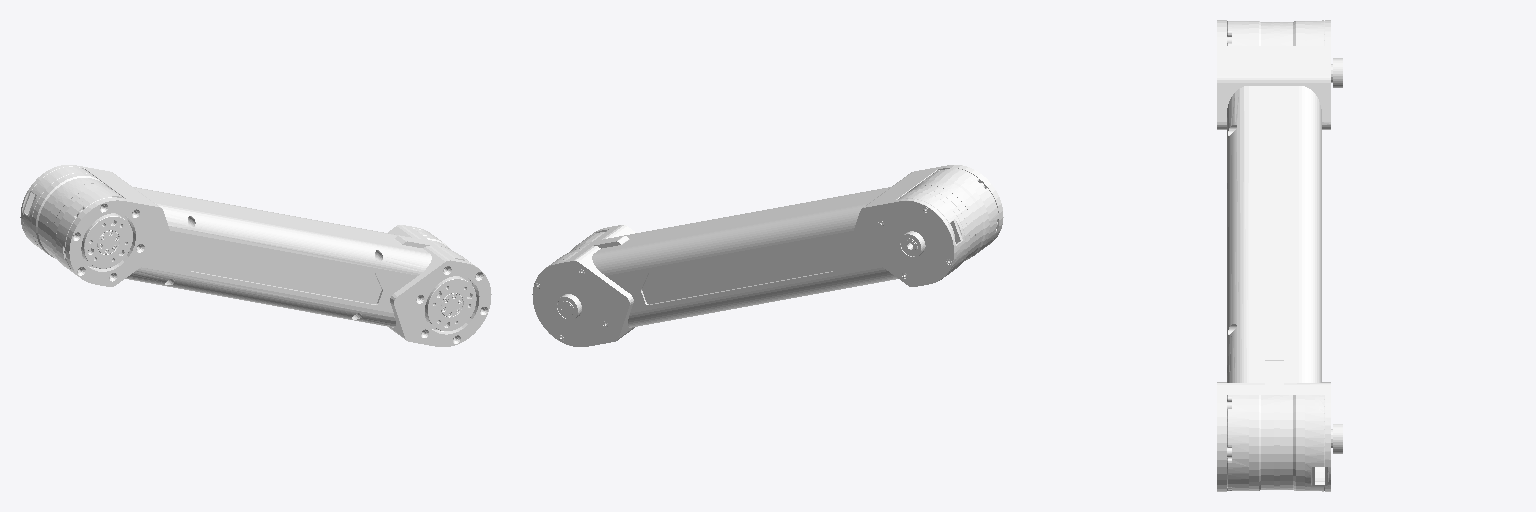
The robot description file, URDF, robot "airbot_play_v2_1":
<?xml version="1.0" encoding="utf-8" ?>
<!-- This URDF was automatically created by SolidWorks to URDF Exporter! Originally created by [author] ([email redacted]) 
     Commit Version: 1.6.0-4-g7f85cfe  Build Version: 1.6.7995.38578
     For more information, please see http://wiki.ros.org/sw_urdf_exporter -->
<robot name="airbot_play_v2_1">
    <link name="base_link">
        <inertial>
            <origin xyz="-0.0106301474610337 -0.000199553410443472 0.0371964687357703" rpy="0 0 0" />
            <mass value="0.775915004746176" />
            <inertia ixx="0.00069985128784508" ixy="5.34514790296098E-06" ixz="1.76381070205361E-06" iyy="0.000855522012998859" iyz="3.90737393820019E-06" izz="0.00105821881122613" />
        </inertial>
        <visual>
            <origin xyz="0 0 0" rpy="0 0 0" />
            <geometry>
                <mesh filename="package://airbot_play_v2_1/meshes/base_link.STL" />
            </geometry>
            <material name="">
                <color rgba="0.898039215686275 0.917647058823529 0.929411764705882 1" />
            </material>
        </visual>
        <collision>
            <origin xyz="0 0 0" rpy="0 0 0" />
            <geometry>
                <mesh filename="package://airbot_play_v2_1/meshes/base_link.STL" />
            </geometry>
        </collision>
    </link>
    <link name="link1">
        <inertial>
            <origin xyz="7.26461828952265E-05 -0.00180358882481513 -0.0040245749975828" rpy="0 0 0" />
            <mass value="0.557107161361679" />
            <inertia ixx="0.000301325021461403" ixy="-2.99503777737959E-07" ixz="4.81746133283817E-07" iyy="0.000250217605970197" iyz="1.4954777872345E-05" izz="0.000325679218873344" />
        </inertial>
        <visual>
            <origin xyz="0 0 0" rpy="0 0 0" />
            <geometry>
                <mesh filename="package://airbot_play_v2_1/meshes/link1.STL" />
            </geometry>
            <material name="">
                <color rgba="0.898039215686275 0.917647058823529 0.929411764705882 1" />
            </material>
        </visual>
        <collision>
            <origin xyz="0 0 0" rpy="0 0 0" />
            <geometry>
                <mesh filename="package://airbot_play_v2_1/meshes/link1.STL" />
            </geometry>
        </collision>
    </link>
    <joint name="joint1" type="revolute">
        <origin xyz="0 0 0.1127" rpy="0 0 0" />
        <parent link="base_link" />
        <child link="link1" />
        <axis xyz="0 0 1" />
        <limit lower="-3.14" upper="2.09" effort="0" velocity="0" />
    </joint>
    <link name="link2">
        <inertial>
            <origin xyz="0.224925446535114 0.00478588811228768 0.00802387316222566" rpy="0 0 0" />
            <mass value="0.646248710360021" />
            <inertia ixx="0.000351883145335031" ixy="-7.83178613766434E-05" ixz="8.22450930417901E-05" iyy="0.00195260270078009" iyz="1.74744972718265E-05" izz="0.00195686017210086" />
        </inertial>
        <visual>
            <origin xyz="0 0 0" rpy="0 0 0" />
            <geometry>
                <mesh filename="package://airbot_play_v2_1/meshes/link2.STL" />
            </geometry>
            <material name="">
                <color rgba="1 1 1 1" />
            </material>
        </visual>
        <collision>
            <origin xyz="0 0 0" rpy="0 0 0" />
            <geometry>
                <mesh filename="package://airbot_play_v2_1/meshes/link2.STL" />
            </geometry>
        </collision>
    </link>
    <joint name="joint2" type="revolute">
        <origin xyz="0 0 0" rpy="-1.5708 -0.38678 3.1416" />
        <parent link="link1" />
        <child link="link2" />
        <axis xyz="0 0 1" />
        <limit lower="-2.96" upper="0.17" effort="0" velocity="0" />
    </joint>
    <link name="link3">
        <inertial>
            <origin xyz="0.200547330964236 -3.3627325386365E-05 0.00194896157935489" rpy="0 0 0" />
            <mass value="0.445563107671385" />
            <inertia ixx="0.000167369776419882" ixy="-4.81065732240346E-07" ixz="1.77949638222263E-06" iyy="0.000672322925427126" iyz="-9.83781152049909E-08" izz="0.000686599433660339" />
        </inertial>
        <visual>
            <origin xyz="0 0 0" rpy="0 0 0" />
            <geometry>
                <mesh filename="package://airbot_play_v2_1/meshes/link3.STL" />
            </geometry>
            <material name="">
                <color rgba="1 1 1 1" />
            </material>
        </visual>
        <collision>
            <origin xyz="0 0 0" rpy="0 0 0" />
            <geometry>
                <mesh filename="package://airbot_play_v2_1/meshes/link3.STL" />
            </geometry>
        </collision>
    </link>
    <joint name="joint3" type="revolute">
        <origin xyz="0.27009 1.3718E-05 0" rpy="0 0 -2.7548" />
        <parent link="link2" />
        <child link="link3" />
        <axis xyz="0 0 1" />
        <limit lower="-0.087" upper="3.14" effort="0" velocity="0" />
    </joint>
    <link name="link4">
        <inertial>
            <origin xyz="0.00150295453973709 5.83997713102176E-07 -0.00232966914421601" rpy="0 0 0" />
            <mass value="0.345884858675684" />
            <inertia ixx="0.000133803031406746" ixy="-7.29531827066913E-09" ixz="-2.46487819854503E-07" iyy="0.000121204730748505" iyz="9.89248496280094E-10" izz="0.000125010151603045" />
        </inertial>
        <visual>
            <origin xyz="0 0 0" rpy="0 0 0" />
            <geometry>
                <mesh filename="package://airbot_play_v2_1/meshes/link4.STL" />
            </geometry>
            <material name="">
                <color rgba="0.898039215686275 0.917647058823529 0.929411764705882 1" />
            </material>
        </visual>
        <collision>
            <origin xyz="0 0 0" rpy="0 0 0" />
            <geometry>
                <mesh filename="package://airbot_play_v2_1/meshes/link4.STL" />
            </geometry>
        </collision>
    </link>
    <joint name="joint4" type="revolute">
        <origin xyz="0.30854 0.0027492 0.00019049" rpy="-1.5708 0 -1.5708" />
        <parent link="link3" />
        <child link="link4" />
        <axis xyz="0 0 1" />
        <limit lower="-2.96" upper="2.96" effort="0" velocity="0" />
    </joint>
    <link name="link5">
        <inertial>
            <origin xyz="0.0506197654888128 6.95119841378662E-06 -0.000909972285324662" rpy="0 0 0" />
            <mass value="0.18663635710924" />
            <inertia ixx="0.000101780959048711" ixy="-1.53592986463846E-08" ixz="5.24140905704508E-08" iyy="8.2787133363287E-05" iyz="-1.71995563550468E-08" izz="8.59347793251101E-05" />
        </inertial>
        <visual>
            <origin xyz="0 0 0" rpy="0 0 0" />
            <geometry>
                <mesh filename="package://airbot_play_v2_1/meshes/link5.STL" />
            </geometry>
            <material name="">
                <color rgba="0.898039215686275 0.917647058823529 0.929411764705882 1" />
            </material>
        </visual>
        <collision>
            <origin xyz="0 0 0" rpy="0 0 0" />
            <geometry>
                <mesh filename="package://airbot_play_v2_1/meshes/link5.STL" />
            </geometry>
        </collision>
    </link>
    <joint name="joint5" type="revolute">
        <origin xyz="0 0 0" rpy="0 -1.5708 0" />
        <parent link="link4" />
        <child link="link5" />
        <axis xyz="0 0 1" />
        <limit lower="-1.74" upper="1.74" effort="0" velocity="0" />
    </joint>
    <link name="link6">
        <inertial>
            <origin xyz="1.11022302462516E-16 -1.30602993697604E-15 -0.023" rpy="0 0 0" />
            <mass value="0.17462115508378" />
            <inertia ixx="5.00435126944266E-05" ixy="8.85914841130682E-35" ixz="-1.77933387786267E-21" iyy="5.00435126944266E-05" iyz="-7.56774997864734E-35" izz="3.85039646959735E-05" />
        </inertial>
        <visual>
            <origin xyz="0 0 0" rpy="0 0 0" />
            <geometry>
                <mesh filename="package://airbot_play_v2_1/meshes/link6.STL" />
            </geometry>
            <material name="">
                <color rgba="0.698039215686274 0.698039215686274 0.698039215686274 1" />
            </material>
        </visual>
        <collision>
            <origin xyz="0 0 0" rpy="0 0 0" />
            <geometry>
                <mesh filename="package://airbot_play_v2_1/meshes/link6.STL" />
            </geometry>
        </collision>
    </link>
    <joint name="joint6" type="revolute">
        <origin xyz="0.0865 0 -0.0027486" rpy="0 1.5708 0" />
        <parent link="link5" />
        <child link="link6" />
        <axis xyz="0 0 1" />
        <limit lower="-3.14" upper="3.14" effort="0" velocity="0" />
    </joint>
    <transmission name="trans_joint1">
        <type>transmission_interface/SimpleTransmission</type>
        <joint name="joint1">
            <hardwareInterface>hardware_interface/PositionJointInterface</hardwareInterface>
        </joint>
        <actuator name="joint1_motor">
            <hardwareInterface>hardware_interface/PositionJointInterface</hardwareInterface>
            <mechanicalReduction>1</mechanicalReduction>
        </actuator>
    </transmission>
    <transmission name="trans_joint2">
        <type>transmission_interface/SimpleTransmission</type>
        <joint name="joint2">
            <hardwareInterface>hardware_interface/PositionJointInterface</hardwareInterface>
        </joint>
        <actuator name="joint2_motor">
            <hardwareInterface>hardware_interface/PositionJointInterface</hardwareInterface>
            <mechanicalReduction>1</mechanicalReduction>
        </actuator>
    </transmission>
    <transmission name="trans_joint3">
        <type>transmission_interface/SimpleTransmission</type>
        <joint name="joint3">
            <hardwareInterface>hardware_interface/PositionJointInterface</hardwareInterface>
        </joint>
        <actuator name="joint3_motor">
            <hardwareInterface>hardware_interface/PositionJointInterface</hardwareInterface>
            <mechanicalReduction>1</mechanicalReduction>
        </actuator>
    </transmission>
    <transmission name="trans_joint4">
        <type>transmission_interface/SimpleTransmission</type>
        <joint name="joint4">
            <hardwareInterface>hardware_interface/PositionJointInterface</hardwareInterface>
        </joint>
        <actuator name="joint4_motor">
            <hardwareInterface>hardware_interface/PositionJointInterface</hardwareInterface>
            <mechanicalReduction>1</mechanicalReduction>
        </actuator>
    </transmission>
    <transmission name="trans_joint5">
        <type>transmission_interface/SimpleTransmission</type>
        <joint name="joint5">
            <hardwareInterface>hardware_interface/PositionJointInterface</hardwareInterface>
        </joint>
        <actuator name="joint5_motor">
            <hardwareInterface>hardware_interface/PositionJointInterface</hardwareInterface>
            <mechanicalReduction>1</mechanicalReduction>
        </actuator>
    </transmission>
    <transmission name="trans_joint6">
        <type>transmission_interface/SimpleTransmission</type>
        <joint name="joint6">
            <hardwareInterface>hardware_interface/PositionJointInterface</hardwareInterface>
        </joint>
        <actuator name="joint6_motor">
            <hardwareInterface>hardware_interface/PositionJointInterface</hardwareInterface>
            <mechanicalReduction>1</mechanicalReduction>
        </actuator>
    </transmission>
    <gazebo>
        <plugin name="gazebo_ros_control">
            <robotNamespace>/</robotNamespace>
        </plugin>
    </gazebo>
</robot>

--- Facts derived from the render (not from the file) ---
3 views of the same robot in one strip: view 1: azimuth 30°, elevation 25°; view 2: azimuth 150°, elevation 25°; view 3: azimuth 270°, elevation 25° (orthographic).
Robot: airbot_play_v2_1 — 7 links, 6 joints (6 revolute); root link base_link; default pose: every joint at zero.
Visible links, largest first — view 1: link2; view 2: link2; view 3: link2.
Link boxes in pixels (bbox=[...]): link2: bbox=[20, 165, 491, 346]; link2: bbox=[532, 165, 1003, 346]; link2: bbox=[1217, 20, 1342, 491].
Size in the robot's own frame: 0.3005 by 0.0665 by 0.1556 metres.
1 mesh visuals loaded from 7 distinct referenced files (1 binary STL); not drawn: 6 (reference not matched to a file when rendering).